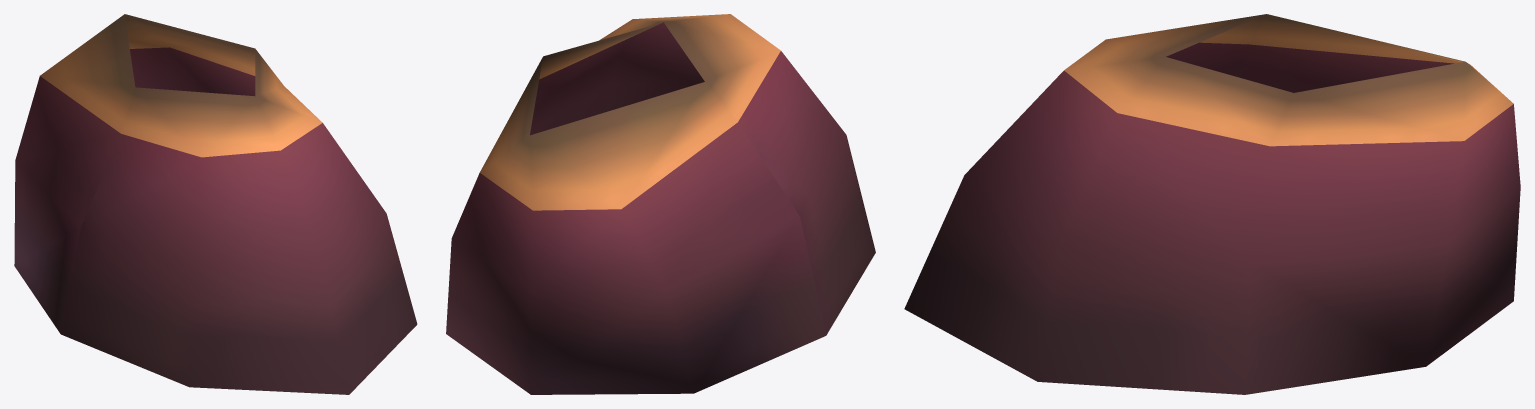
File: pataTras2_planta_caballoTS.obj
3 views of the same model, side by side, from view 1: azimuth 30°, elevation 25°; view 2: azimuth 150°, elevation 25°; view 3: azimuth 270°, elevation 25° (orthographic). The views are drawn at different scales.
Parts seen in each view (by area): view 1: patatras2_planta; view 2: patatras2_planta; view 3: patatras2_planta.
Part boxes in pixels (x1,y1,x2,y2): patatras2_planta: (14,14,417,394); patatras2_planta: (446,14,875,394); patatras2_planta: (904,14,1520,394).
Size of the model in its own units: 1.9 by 1.3 by 2.79.
1 material, 1 textured.
